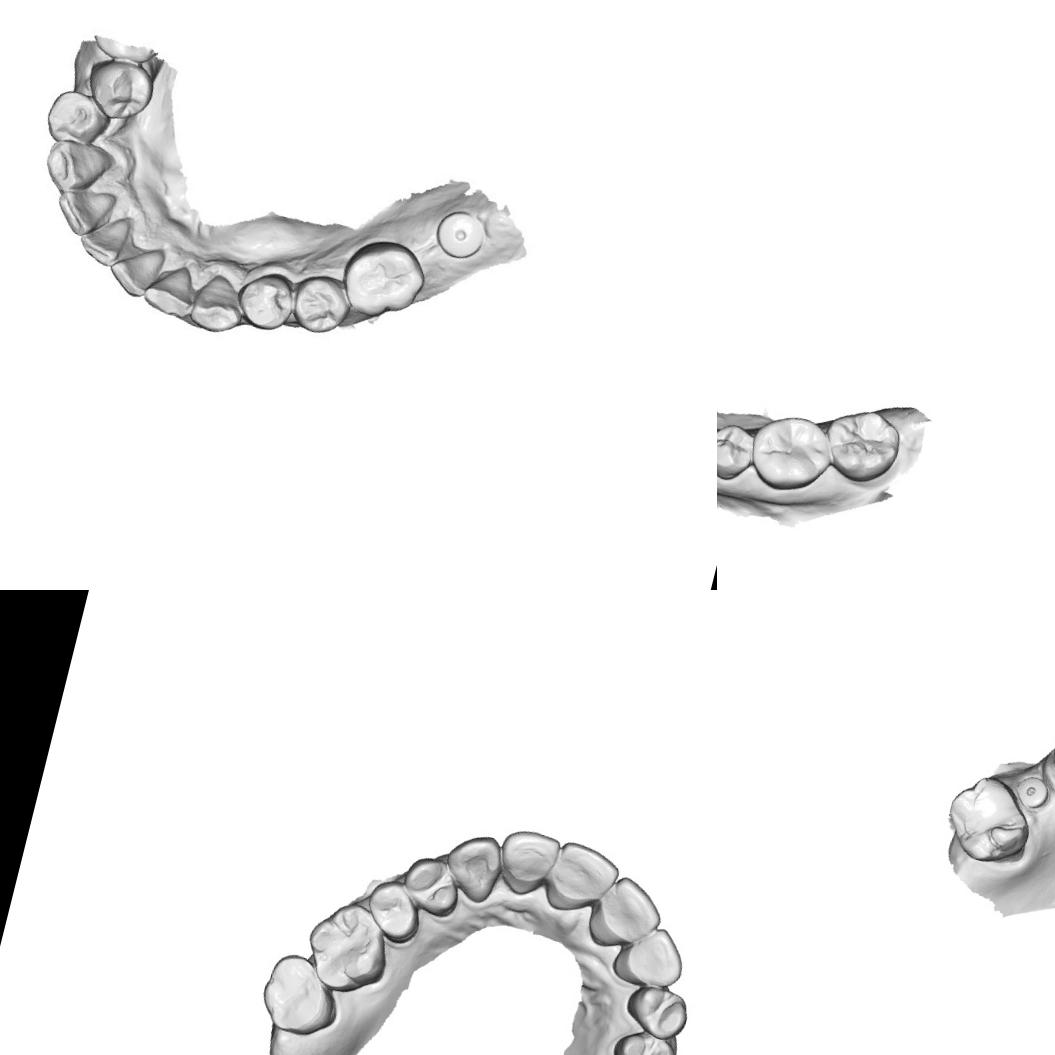canine: (435, 825, 510, 907), (45, 134, 117, 198), (191, 272, 252, 335)
crown: (1040, 731, 1055, 798)
implant: (428, 196, 497, 272), (1010, 772, 1054, 814)
incisor: (582, 868, 670, 959), (606, 916, 693, 998), (542, 836, 620, 923), (488, 820, 564, 902), (140, 260, 204, 322), (55, 178, 116, 240), (112, 239, 171, 295), (84, 210, 142, 264)
molar: (295, 892, 400, 1002), (934, 767, 1040, 871), (252, 946, 348, 1044), (741, 405, 839, 500), (337, 230, 425, 327), (814, 400, 907, 490)
premolar: (358, 873, 429, 948), (394, 850, 466, 922), (619, 978, 695, 1045), (88, 51, 154, 122), (46, 86, 114, 152), (238, 266, 299, 330), (292, 272, 352, 336), (717, 417, 760, 486), (604, 1023, 685, 1055)
